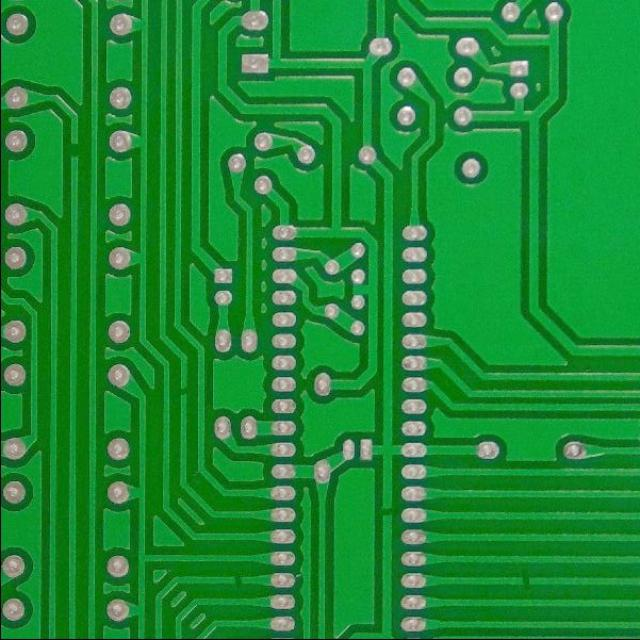open_circuit: (65, 140, 83, 160), (377, 502, 395, 520), (514, 574, 534, 590), (228, 574, 246, 588), (174, 384, 190, 398)
